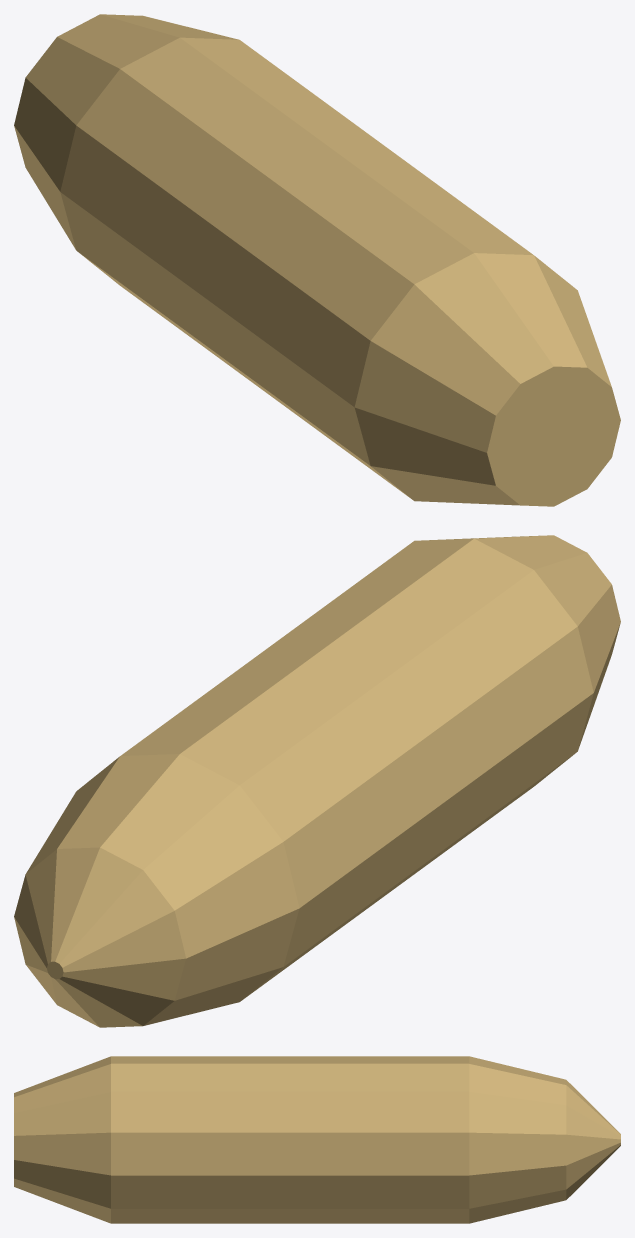
File: PRJ_Ww2QuadAa.fbx
The picture shows the model from 3 angles, top to bottom: view 1: azimuth 30°, elevation 25°; view 2: azimuth 150°, elevation 25°; view 3: azimuth 270°, elevation 25°; orthographic projection. The views are drawn at different scales.
Visible parts, largest first — view 1: OrdnanceBody; view 2: OrdnanceBody; view 3: OrdnanceBody.
Part boxes in pixels (<box>): OrdnanceBody: <box>14,14,620,506</box>; OrdnanceBody: <box>14,535,620,1027</box>; OrdnanceBody: <box>14,1056,620,1223</box>.
Bounding box in the file's own units: 3.6 × 3.6 × 13.
